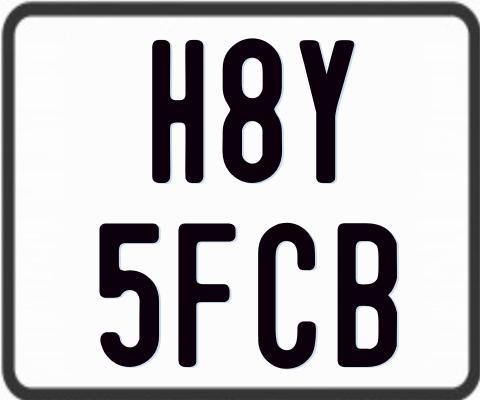5: (99, 223, 161, 371)
8: (222, 37, 283, 187)
B: (337, 220, 401, 370)
C: (258, 220, 321, 368)
F: (176, 220, 234, 369)
H: (152, 39, 206, 186)
Y: (299, 39, 359, 184)
